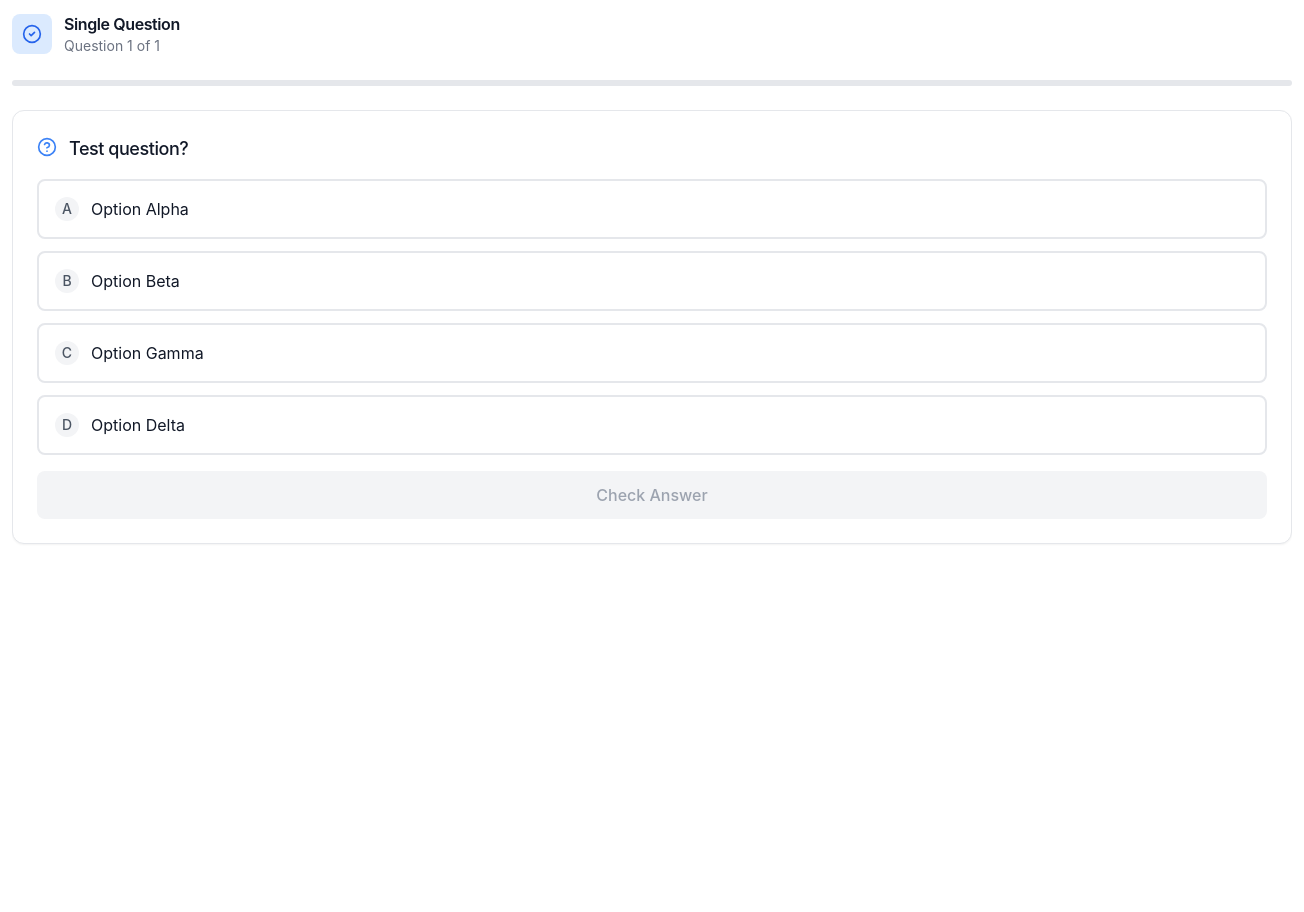
Scenario: CheckpointView › shows review message for low score
// Answer incorrectly (index 1 is wrong, correct is 0)
Click the button with test id "option-1" at (135, 281), box 37,251 -> 1267,311
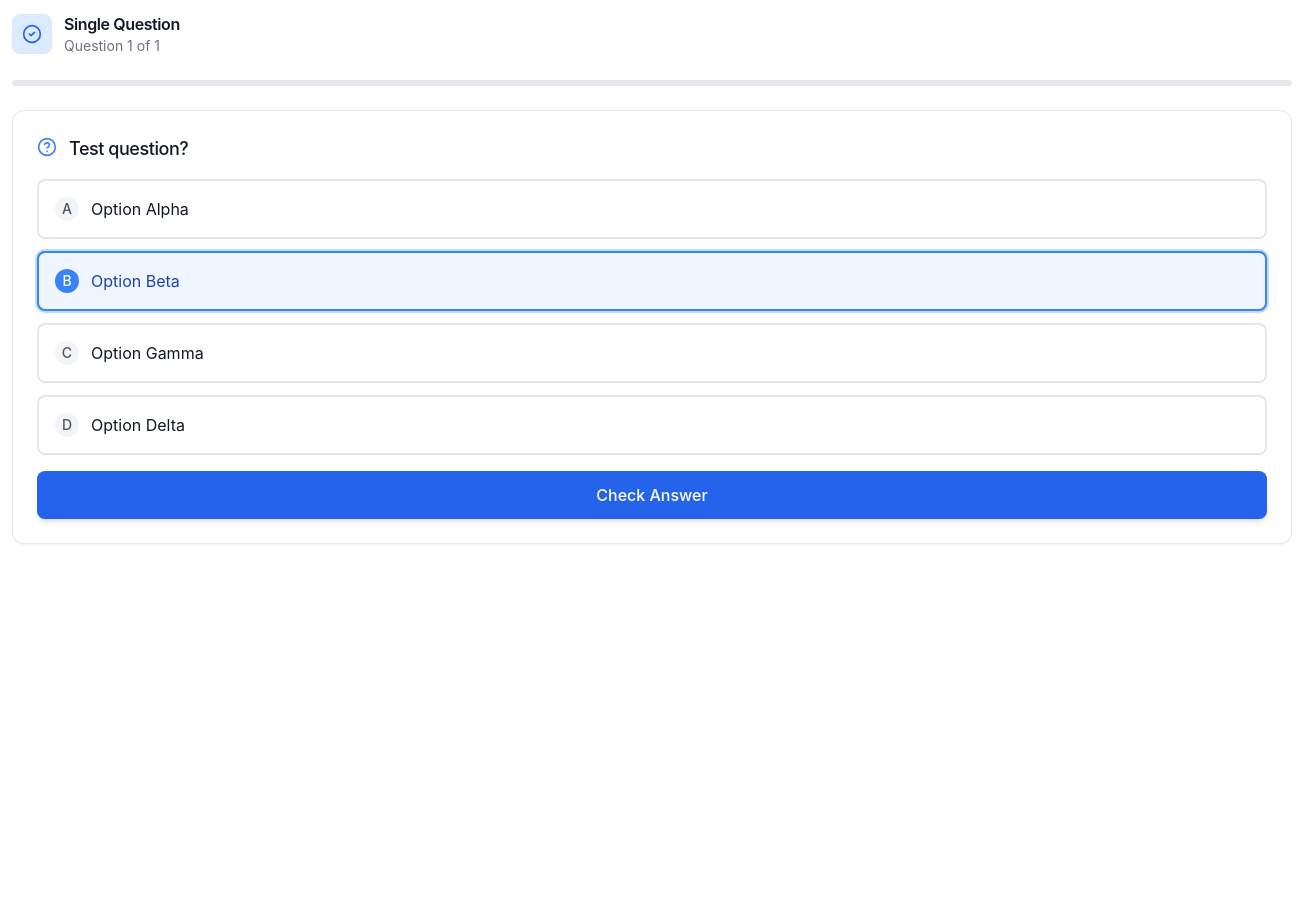
Click the button "Check Answer" at (652, 495), box 37,471 -> 1267,519
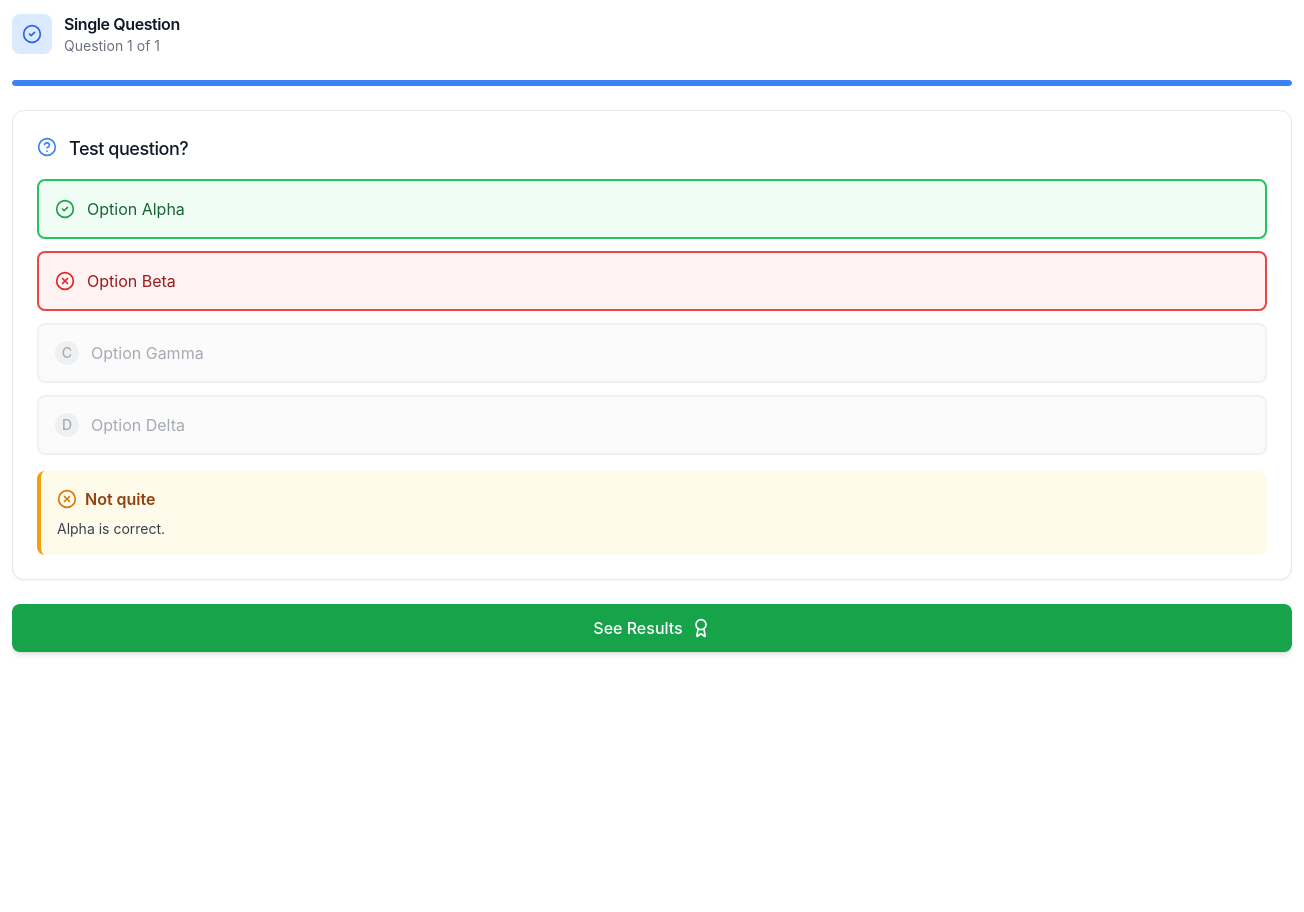
// Click "See Results" button to view completion screen
Click the button with test id "finish-button" at (652, 628), box 12,604 -> 1292,652
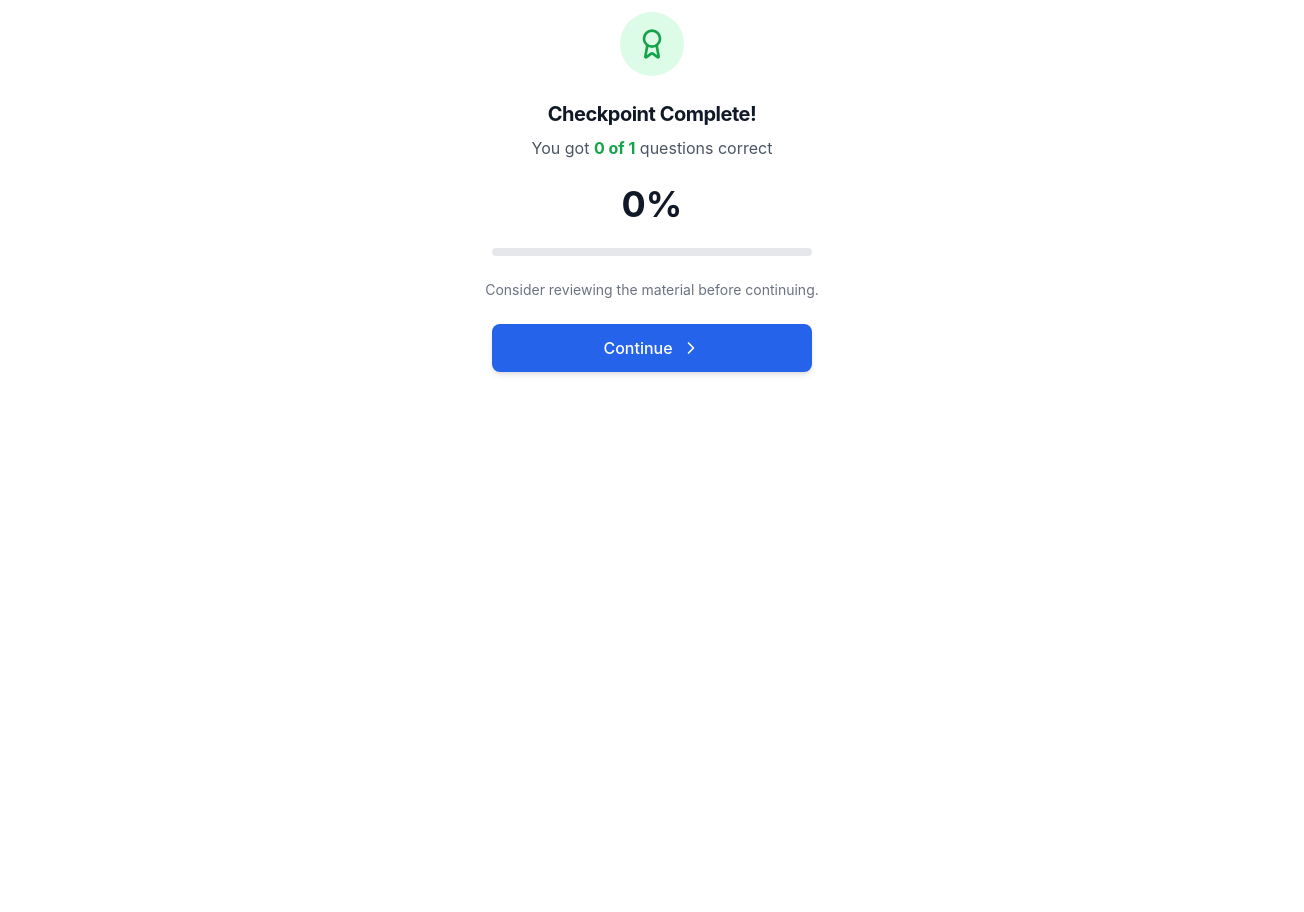
Now the text "Consider reviewing the material before continuing." is shown, box 485,281 -> 819,298
